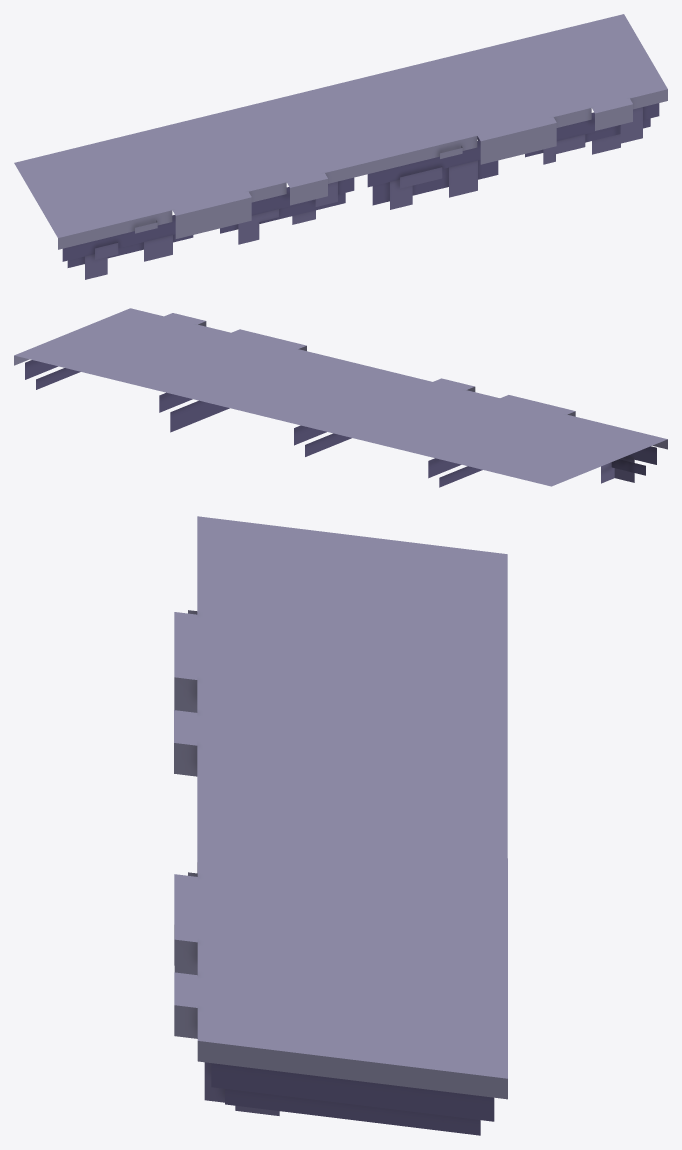
Rendered from Field_Type_02_01.FBX.
3 views of the same model, one above another, from view 1: azimuth 30°, elevation 25°; view 2: azimuth 150°, elevation 25°; view 3: azimuth 270°, elevation 25° (orthographic). The views are drawn at different scales.
Visible parts, largest first — view 1: Field_Type_02_01; view 2: Field_Type_02_01; view 3: Field_Type_02_01.
Part boxes in pixels (x1,y1,x2,y2): Field_Type_02_01: (14, 14, 667, 279); Field_Type_02_01: (14, 308, 667, 487); Field_Type_02_01: (174, 516, 507, 1135).
Bounding box in the file's own units: 92.6 × 8.17 × 23.23.
